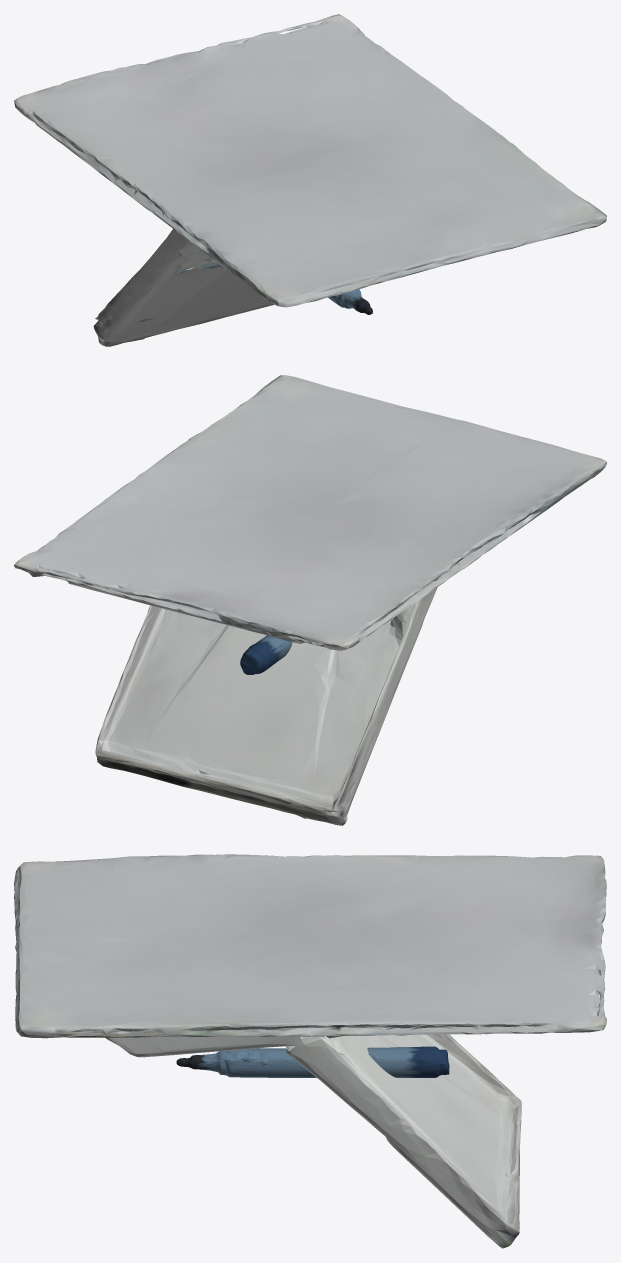
3 renders of one model, top to bottom at view 1: azimuth 30°, elevation 25°; view 2: azimuth 150°, elevation 25°; view 3: azimuth 270°, elevation 25°, orthographic. The views are drawn at different scales.
Visible parts, largest first — view 1: world; view 2: world; view 3: world.
Boxes of the visible parts, <box> form: world: <box>14,14,606,346</box>; world: <box>14,375,606,825</box>; world: <box>14,854,606,1248</box>.
Bounding box in the file's own units: 0.217 × 0.1436 × 0.3052.
